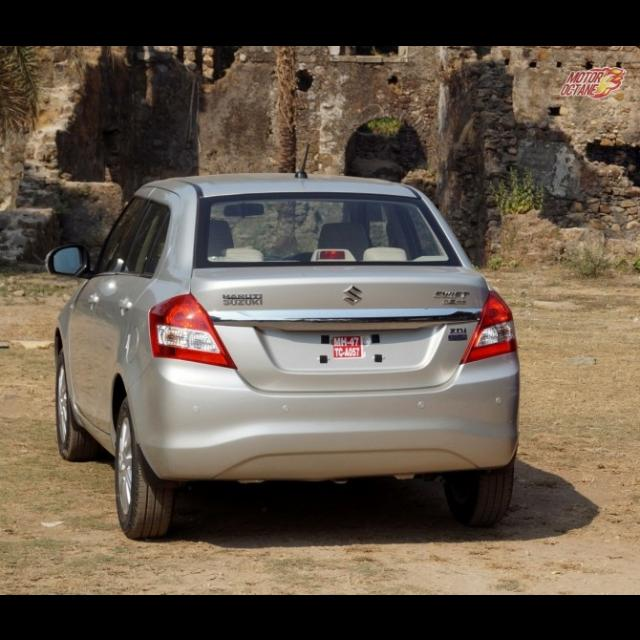vehicles: (50, 176, 512, 536)
